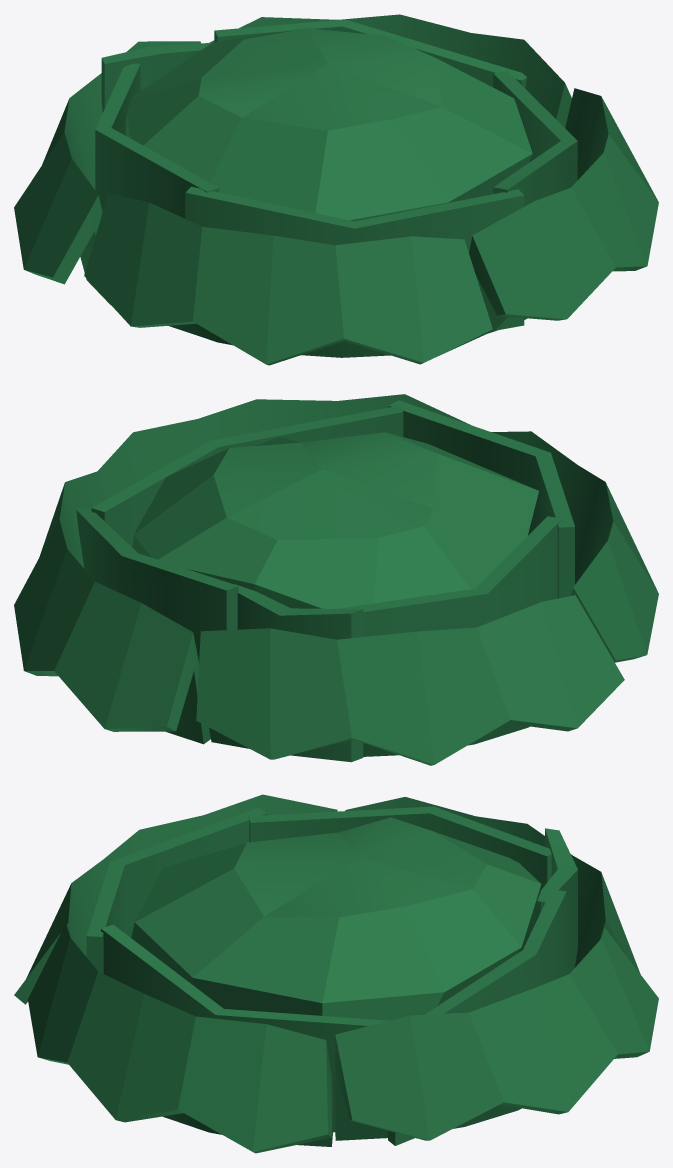
Rendered from cabbage.FBX.
The picture shows the model from 3 angles, top to bottom: view 1: azimuth 30°, elevation 25°; view 2: azimuth 150°, elevation 25°; view 3: azimuth 270°, elevation 25°; orthographic projection. The views are drawn at different scales.
Parts seen in each view (by area): view 1: cabbage; view 2: cabbage; view 3: cabbage.
Boxes of the visible parts, x1=… form: cabbage: x1=14, y1=14, x2=658, y2=365; cabbage: x1=14, y1=394, x2=658, y2=765; cabbage: x1=14, y1=794, x2=658, y2=1153.
Size of the model in its own units: 0.3336 by 0.1017 by 0.3296.
Materials: 1 (1 with a texture image).
